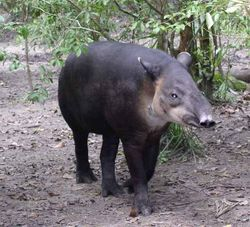Anta: (55, 36, 220, 218)
